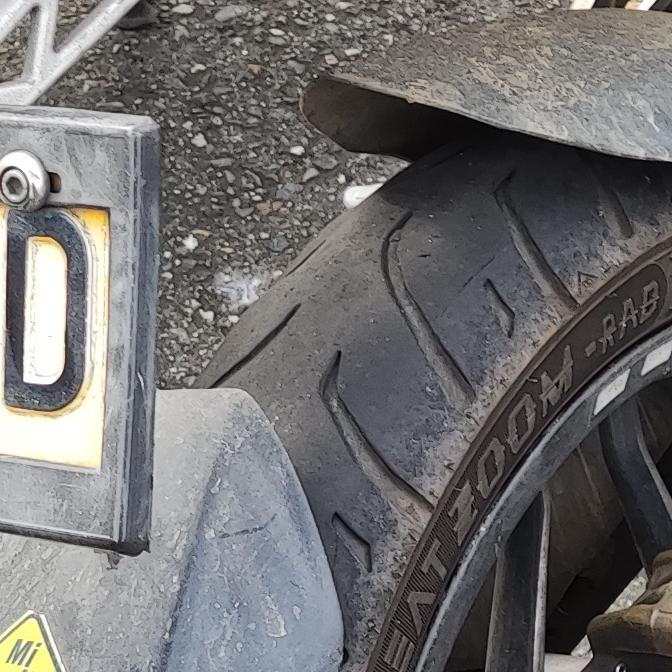plates: (0, 111, 146, 541)
